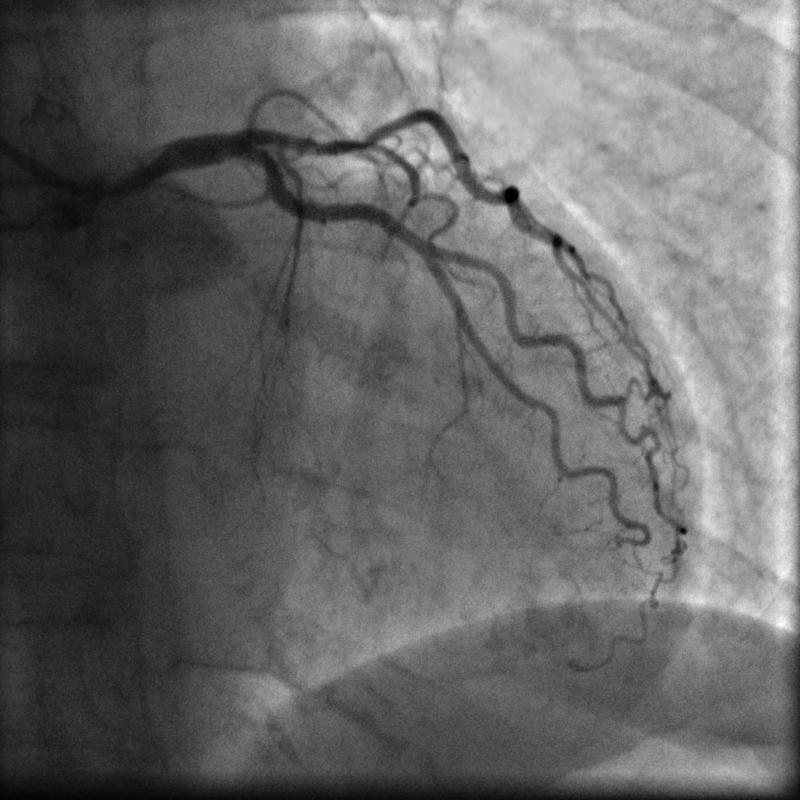Stenosis: (312, 137, 340, 155)
